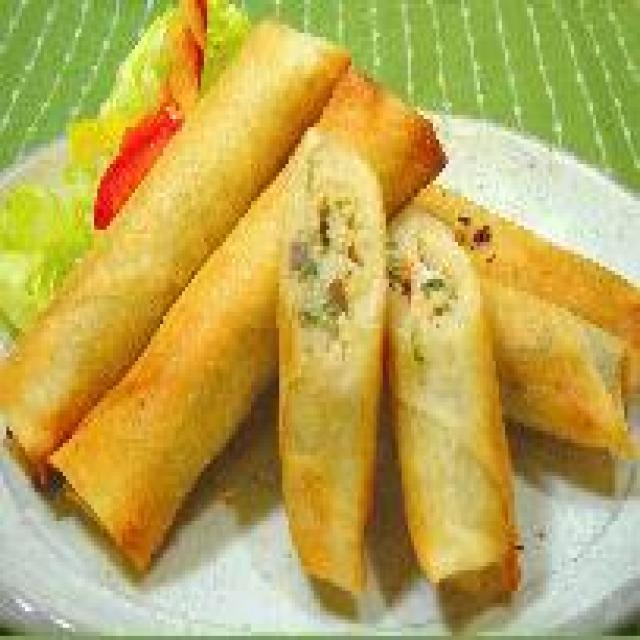鸡蛋料理: (0, 12, 640, 616)
